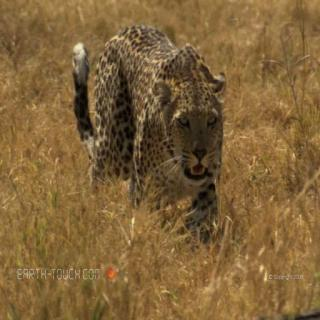Leopard: (57, 16, 261, 240)
